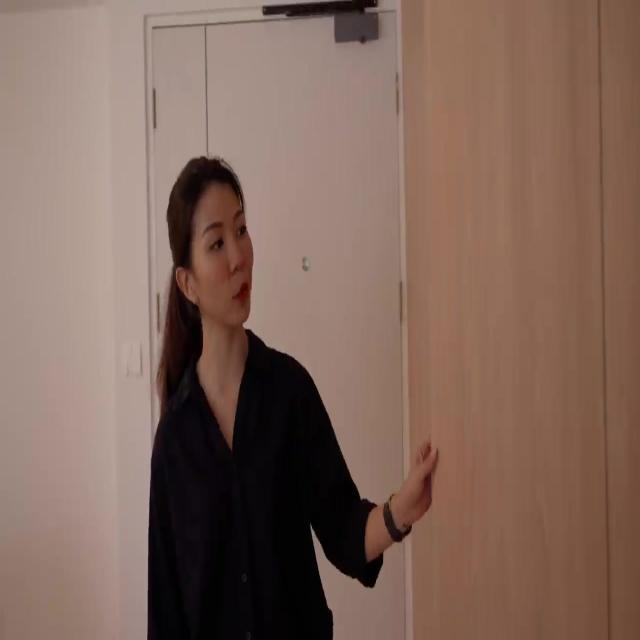person: (146, 154, 438, 639)
